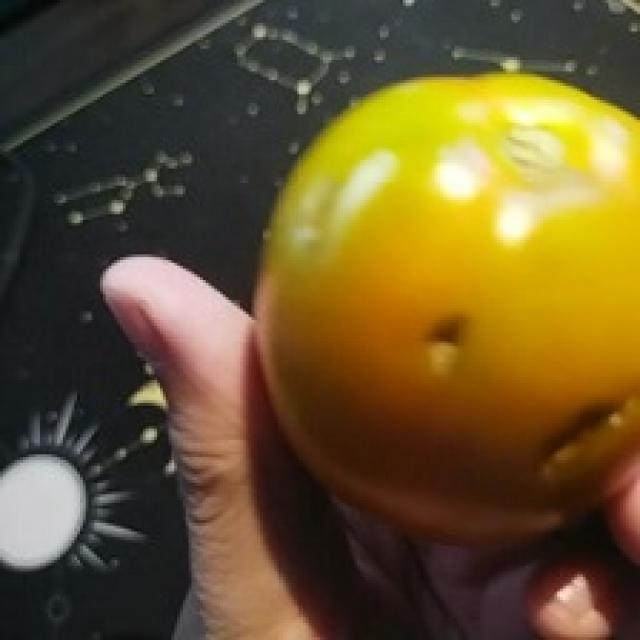Rotten Tomato: (241, 54, 640, 546)
